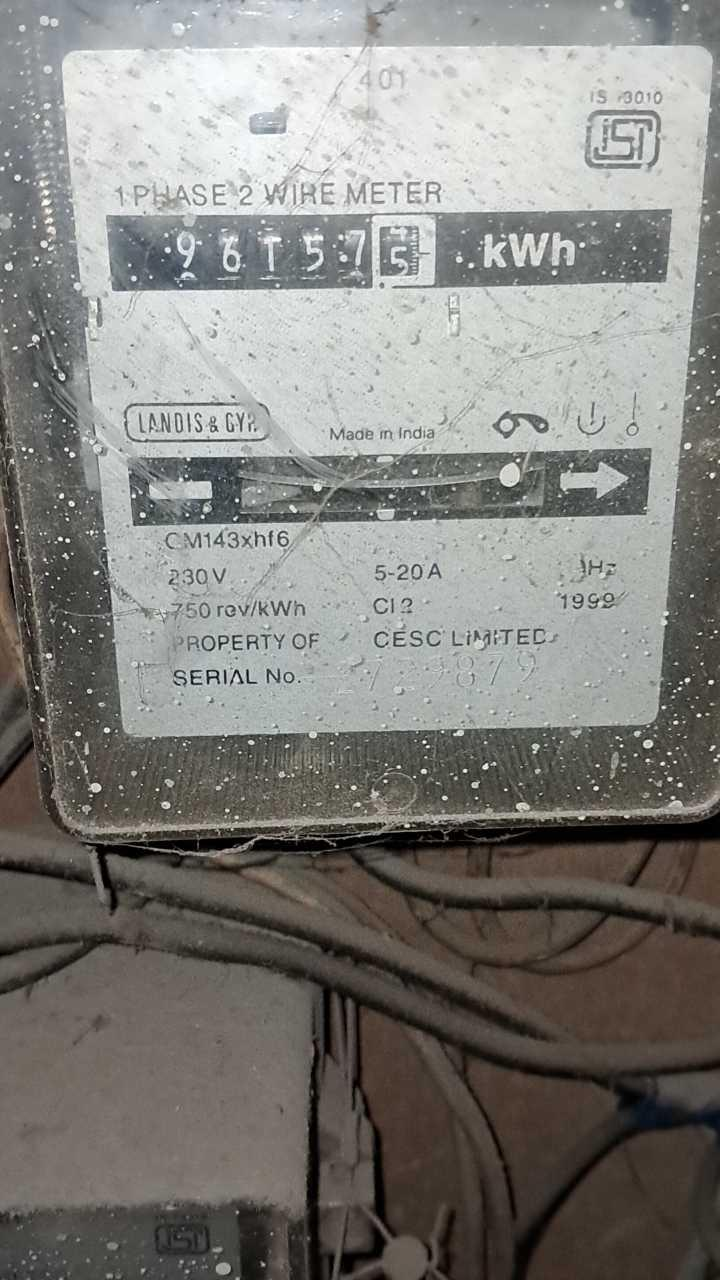meter_readings: (160, 222, 442, 288)
serial_number: (332, 651, 549, 694)
